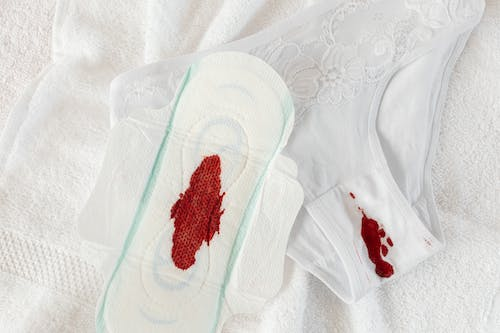blood: (347, 187, 433, 285), (168, 152, 227, 271)
